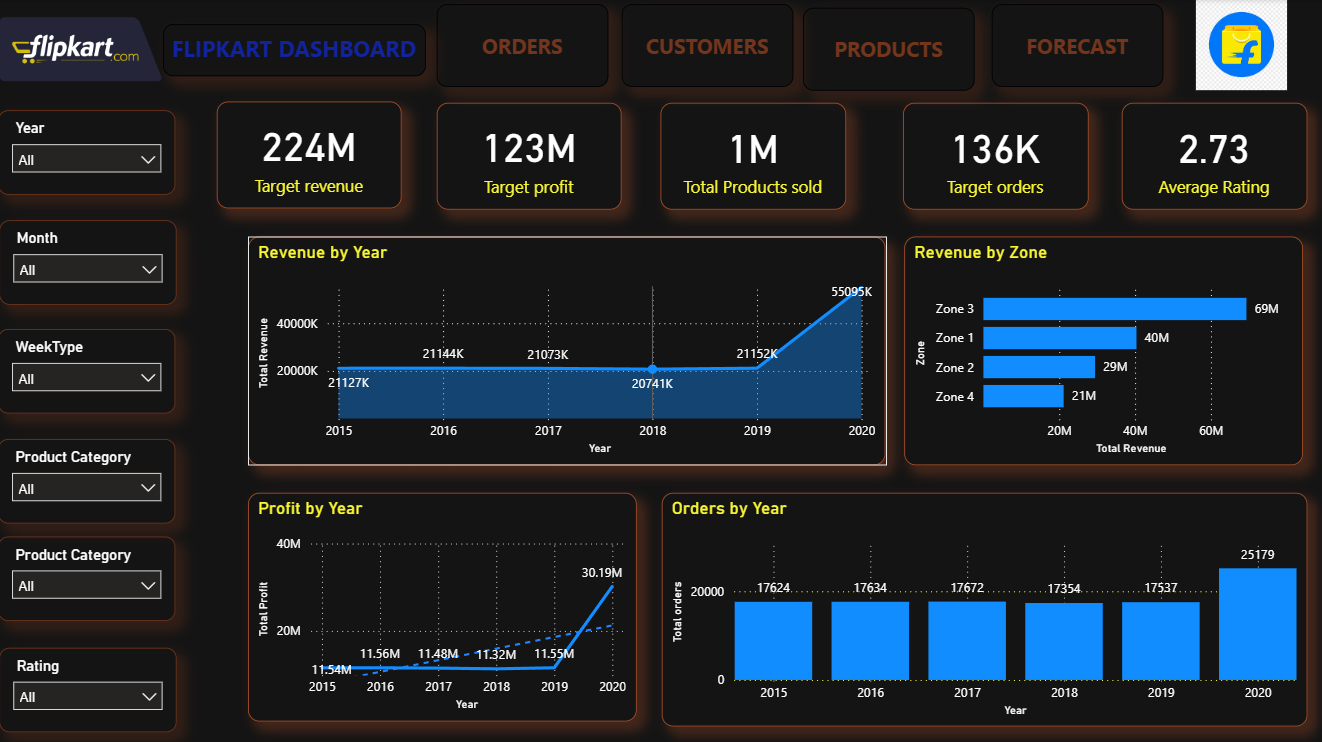

The page's visual inventory and layout, read from the dashboard file:
{"tool":"powerbi","page":{"name":"Dashboard","canvas":[1280,720],"ordinal":1},"visuals":[{"type":"image","box":[0,0,158.9,96.7],"z":0},{"type":"textbox","box":[158.8,23.8,253.8,50],"z":1000},{"type":"shape","box":[423.8,5,165.6,80],"z":2000},{"type":"shape","box":[602.5,5,165.6,80],"z":3000},{"type":"shape","box":[777.5,8.8,165.6,80],"z":4000},{"type":"shape","box":[958.8,5,165.6,80],"z":5000},{"type":"image","box":[1152.2,0,95.3,88.1],"z":6000},{"type":"slicer","fields":{"Values":["Calendar.Year"]},"box":[0,107.5,171.2,81.2],"z":7000},{"type":"slicer","fields":{"Values":["Calendar.Month"]},"box":[1.2,213.8,171.2,81.2],"z":8000},{"type":"slicer","fields":{"Values":["Calendar.WeekType"]},"box":[0,318.5,171.2,81.2],"z":9000},{"type":"slicer","fields":{"Values":["Product Category.Product Category"]},"box":[0,424.7,171.2,81.2],"z":10000},{"type":"slicer","fields":{"Values":["Data.Rating"]},"box":[1.2,626.1,171.2,81.2],"z":11000},{"type":"slicer","fields":{"Values":["Product Category.Product Category"]},"box":[0,518.8,171.2,81.2],"z":12000},{"type":"card","fields":{"Values":["All Measure.Target revenue"]},"box":[211.1,98.9,178.6,103],"z":13000},{"type":"card","fields":{"Values":["All Measure.Target profit"]},"box":[423.5,100.1,178.6,103],"z":14000},{"type":"card","fields":{"Values":["All Measure.Total Products sold"]},"box":[639.4,100.1,178.9,103.1],"z":15000},{"type":"card","fields":{"Values":["All Measure.Target orders"]},"box":[873.6,99.9,178.9,103.1],"z":16000},{"type":"card","fields":{"Values":["All Measure.Average Rating"]},"box":[1084.6,100.1,178.9,103.1],"z":17000},{"type":"areaChart","title":"Revenue by Year","fields":{"Y":["All Measure.Total Revenue"],"Category":["Calendar.Date.Variation.Date Hierarchy.Year","Calendar.Date.Variation.Date Hierarchy.Quarter","Calendar.Date.Variation.Date Hierarchy.Month","Calendar.Date.Variation.Date Hierarchy.Day"]},"box":[241.7,228.8,615.6,220.8],"z":18000},{"type":"barChart","title":" Revenue by Zone","fields":{"Category":["Data.Zone"],"Y":["All Measure.Total Revenue"]},"box":[874.2,228.9,384.6,220.9],"z":19000},{"type":"lineChart","title":" Profit by Year","fields":{"Y":["All Measure.Total Profit"],"Category":["Calendar.Date.Variation.Date Hierarchy.Year","Calendar.Date.Variation.Date Hierarchy.Quarter","Calendar.Date.Variation.Date Hierarchy.Month","Calendar.Date.Variation.Date Hierarchy.Day"]},"box":[241.4,476.4,375,220.5],"z":20000},{"type":"columnChart","title":" Orders by Year","fields":{"Category":["Calendar.Date.Variation.Date Hierarchy.Year","Calendar.Date.Variation.Date Hierarchy.Quarter","Calendar.Date.Variation.Date Hierarchy.Month","Calendar.Date.Variation.Date Hierarchy.Day"],"Y":["All Measure.Total orders"]},"box":[640.5,476.8,623,225.7],"z":21000}]}

Visuals, with their boxes in screenshot pixels (x1, y1, x2, y2), scaled from the page's 1280x720 canvas onto the 1322x742 screenshot:
image: region(0, 0, 164, 100)
textbox: region(164, 25, 426, 76)
shape: region(438, 5, 609, 88)
shape: region(622, 5, 793, 88)
shape: region(803, 9, 974, 92)
shape: region(990, 5, 1161, 88)
image: region(1190, 0, 1288, 91)
slicer - Calendar.Year: region(0, 111, 177, 194)
slicer - Calendar.Month: region(1, 220, 178, 304)
slicer - Calendar.WeekType: region(0, 328, 177, 412)
slicer - Product Category.Product Category: region(0, 438, 177, 521)
slicer - Data.Rating: region(1, 645, 178, 729)
slicer - Product Category.Product Category: region(0, 535, 177, 618)
card - All Measure.Target revenue: region(218, 102, 402, 208)
card - All Measure.Target profit: region(437, 103, 622, 209)
card - All Measure.Total Products sold: region(660, 103, 845, 209)
card - All Measure.Target orders: region(902, 103, 1087, 209)
card - All Measure.Average Rating: region(1120, 103, 1305, 209)
"Revenue by Year" areaChart: region(250, 236, 885, 463)
" Revenue by Zone" barChart: region(903, 236, 1300, 464)
" Profit by Year" lineChart: region(249, 491, 637, 718)
" Orders by Year" columnChart: region(662, 491, 1305, 724)
